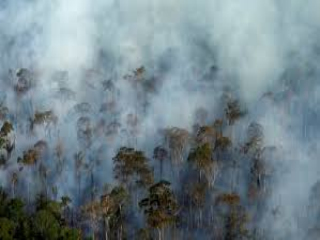smoke: (212, 7, 293, 141)
